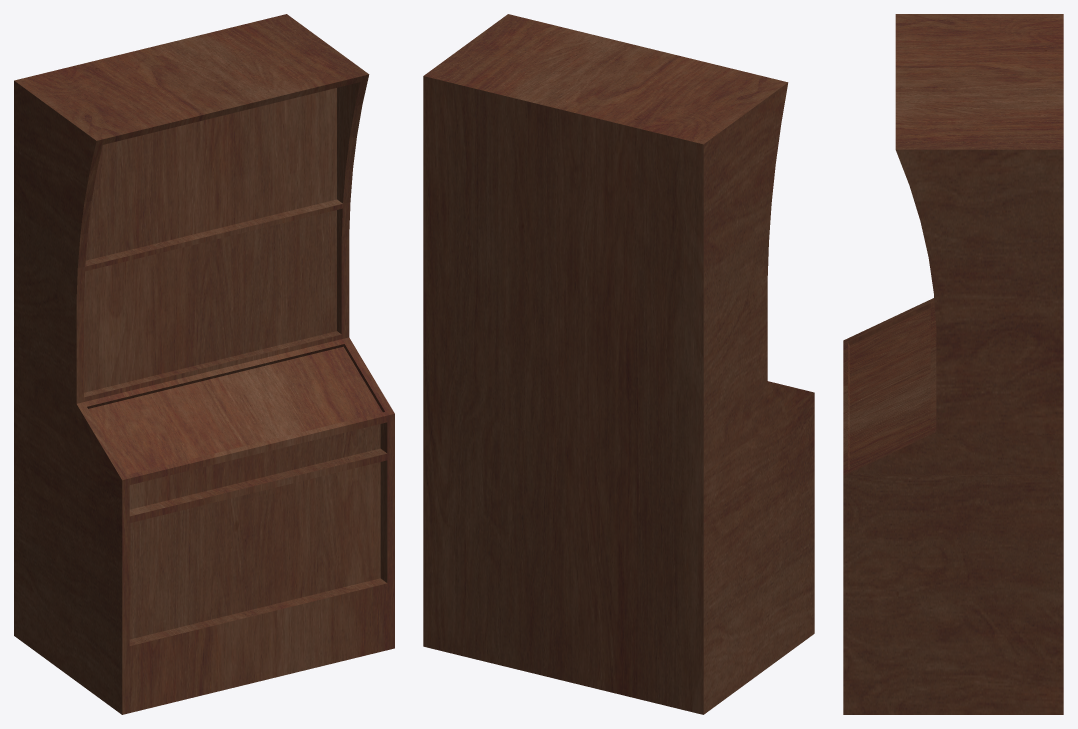
File: wood_body.fbx
3 views of the same model, side by side, from view 1: azimuth 30°, elevation 25°; view 2: azimuth 150°, elevation 25°; view 3: azimuth 270°, elevation 25° (orthographic). The views are drawn at different scales.
Parts seen in each view (by area): view 1: cabinet_Cube.001; view 2: cabinet_Cube.001; view 3: cabinet_Cube.001.
Part boxes in pixels (box(x1,y1,x2,y2)): cabinet_Cube.001: box(14, 14, 394, 714); cabinet_Cube.001: box(423, 14, 814, 714); cabinet_Cube.001: box(843, 14, 1063, 714).
Bounding box in the file's own units: 102 × 199 × 70.13.
